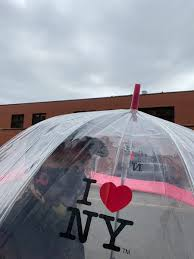mask: (25, 113, 93, 201)
